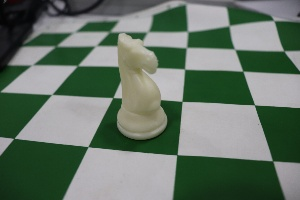white_horse: (109, 24, 169, 147)
